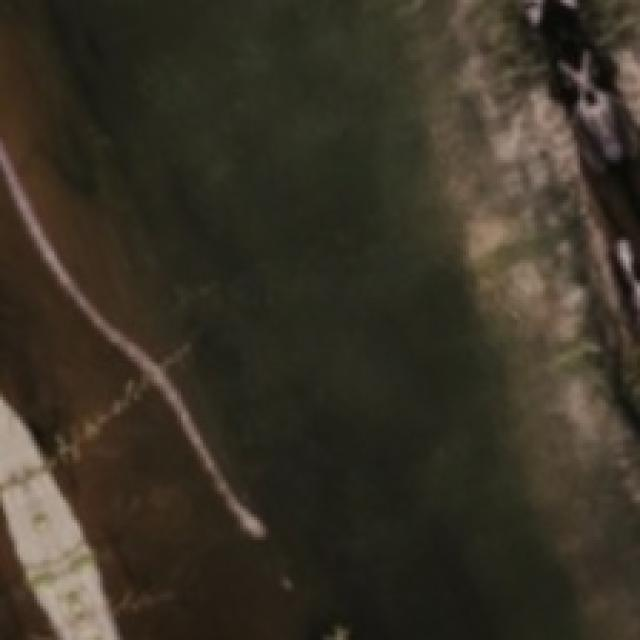king cobra: (0, 0, 637, 637), (523, 0, 637, 429)
